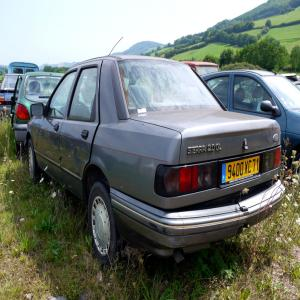Vehicle-registration-plate: (226, 158, 261, 189)
